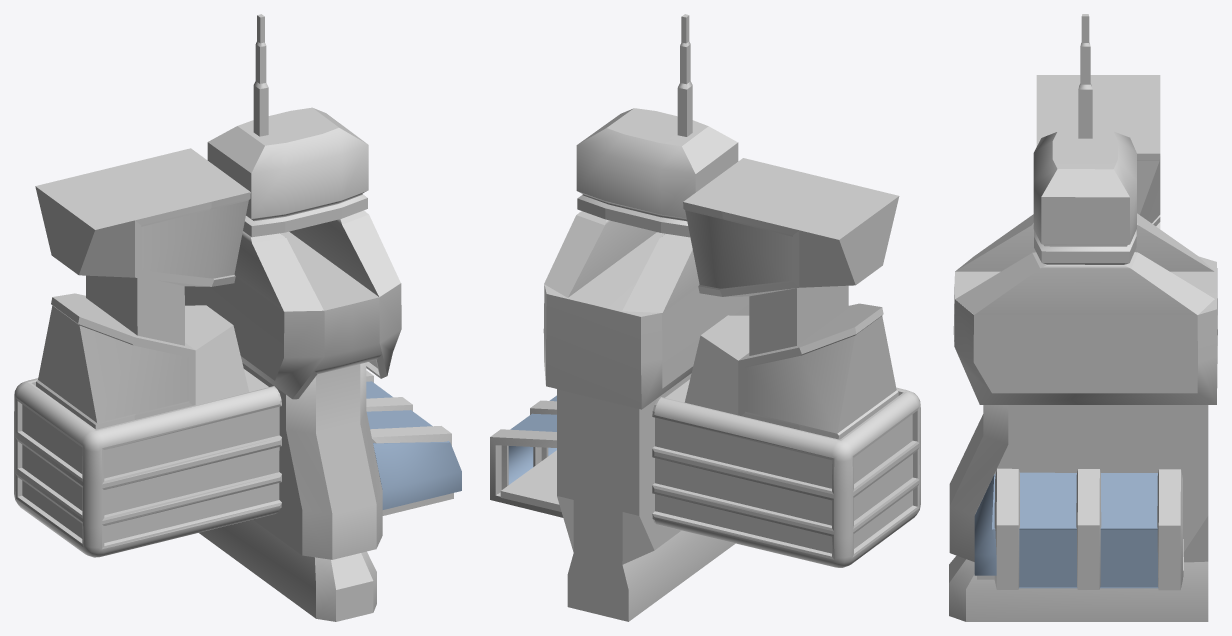
Rendered from KF_SM_Building3_KayanL 1.fbx.
3 renders of one model, left to right at view 1: azimuth 30°, elevation 25°; view 2: azimuth 150°, elevation 25°; view 3: azimuth 270°, elevation 25°, orthographic. The views are drawn at different scales.
Visible parts, largest first — view 1: Box022, Box009, Box021, Box023, Box014, Box010, Box012; view 2: Box022, Box009, Box021, Box023, Box010, Box011, Box013; view 3: Box009, Box023, Box010, Box022, Box012, Box013, Box014.
Part boxes in pixels (x1=…): Box022: x1=35, y1=148, x2=250, y2=429; Box009: x1=184, y1=231, x2=401, y2=621; Box021: x1=14, y1=369, x2=281, y2=557; Box023: x1=207, y1=14, x2=400, y2=311; Box014: x1=373, y1=441, x2=461, y2=509; Box010: x1=366, y1=370, x2=451, y2=445; Box012: x1=366, y1=410, x2=432, y2=429; Box022: x1=683, y1=158, x2=899, y2=439; Box009: x1=543, y1=232, x2=749, y2=621; Box021: x1=652, y1=379, x2=920, y2=567; Box023: x1=544, y1=14, x2=738, y2=312; Box010: x1=490, y1=400, x2=563, y2=517; Box011: x1=500, y1=450, x2=561, y2=511; Box013: x1=508, y1=413, x2=556, y2=484; Box009: x1=949, y1=256, x2=1217, y2=621; Box023: x1=955, y1=14, x2=1214, y2=315; Box010: x1=994, y1=468, x2=1182, y2=590; Box022: x1=1036, y1=75, x2=1160, y2=228; Box012: x1=1019, y1=472, x2=1077, y2=588; Box013: x1=1100, y1=473, x2=1158, y2=588; Box014: x1=974, y1=474, x2=996, y2=575.
Bounding box in the file's own units: 4078 × 6148 × 2592.
